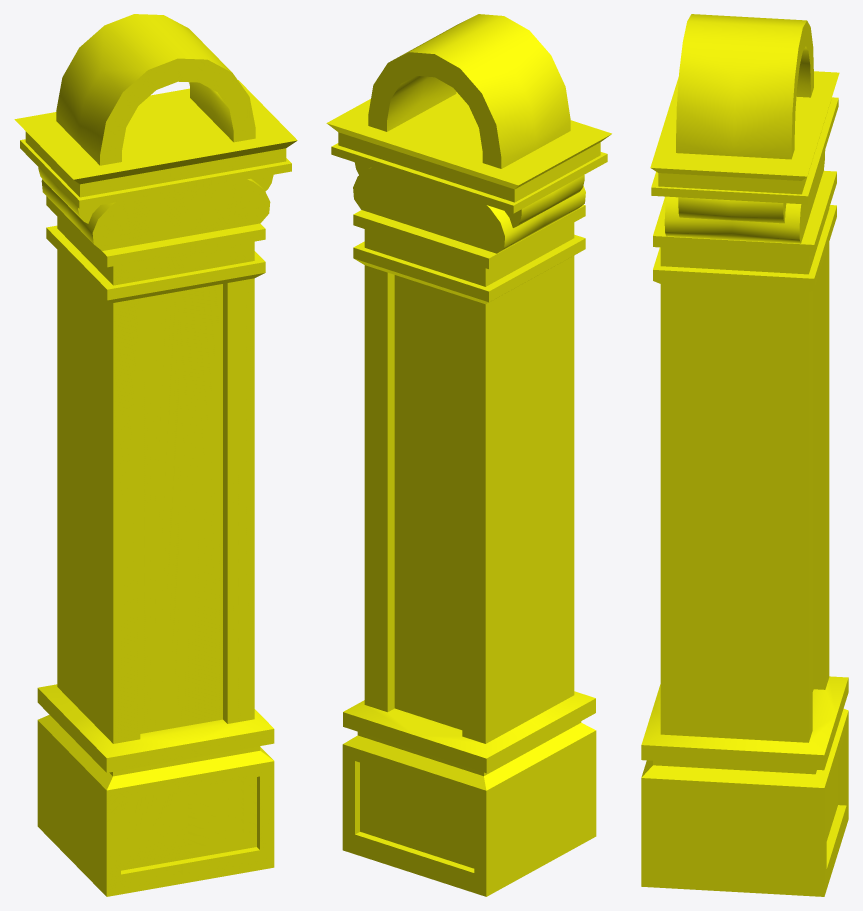
Rendered from 2st_pillar_001.glb.
3 renders of one model, left to right at view 1: azimuth 30°, elevation 25°; view 2: azimuth 150°, elevation 25°; view 3: azimuth 270°, elevation 25°, orthographic. The views are drawn at different scales.
Visible parts, largest first — view 1: 4st_pillar_001; view 2: 4st_pillar_001; view 3: 4st_pillar_001.
Part boxes in pixels (x1,y1,x2,y2): 4st_pillar_001: (14,14,297,896); 4st_pillar_001: (326,14,611,896); 4st_pillar_001: (641,14,848,896).
Bounding box in the file's own units: 5.23 × 17.94 × 4.07.
Materials: 1 (1 with a texture image).
